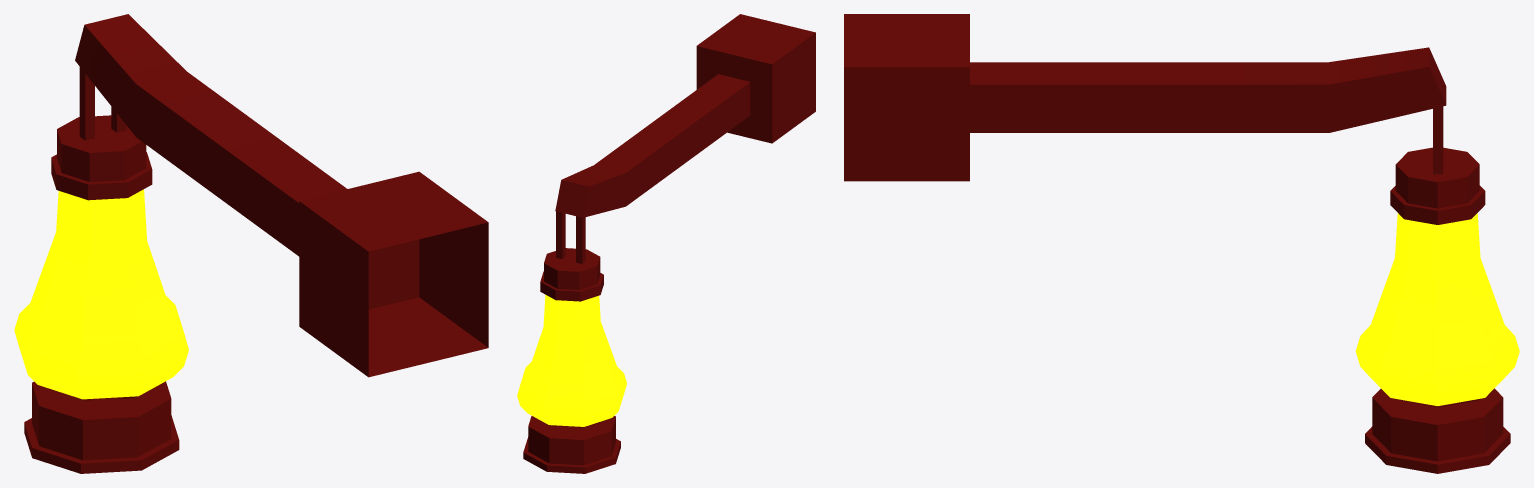
The model's file is Lampada-contencao.fbx.
3 views of the same model, side by side, from view 1: azimuth 30°, elevation 25°; view 2: azimuth 150°, elevation 25°; view 3: azimuth 270°, elevation 25° (orthographic). The views are drawn at different scales.
Visible parts, largest first — view 1: Lamparina.002; view 2: Lamparina.002; view 3: Lamparina.002.
Part boxes in pixels (x1=…): Lamparina.002: x1=14, y1=14, x2=488, y2=473; Lamparina.002: x1=517, y1=14, x2=815, y2=473; Lamparina.002: x1=844, y1=14, x2=1519, y2=473.
Bounding box in the file's own units: 33.27 × 89.98 × 137.
